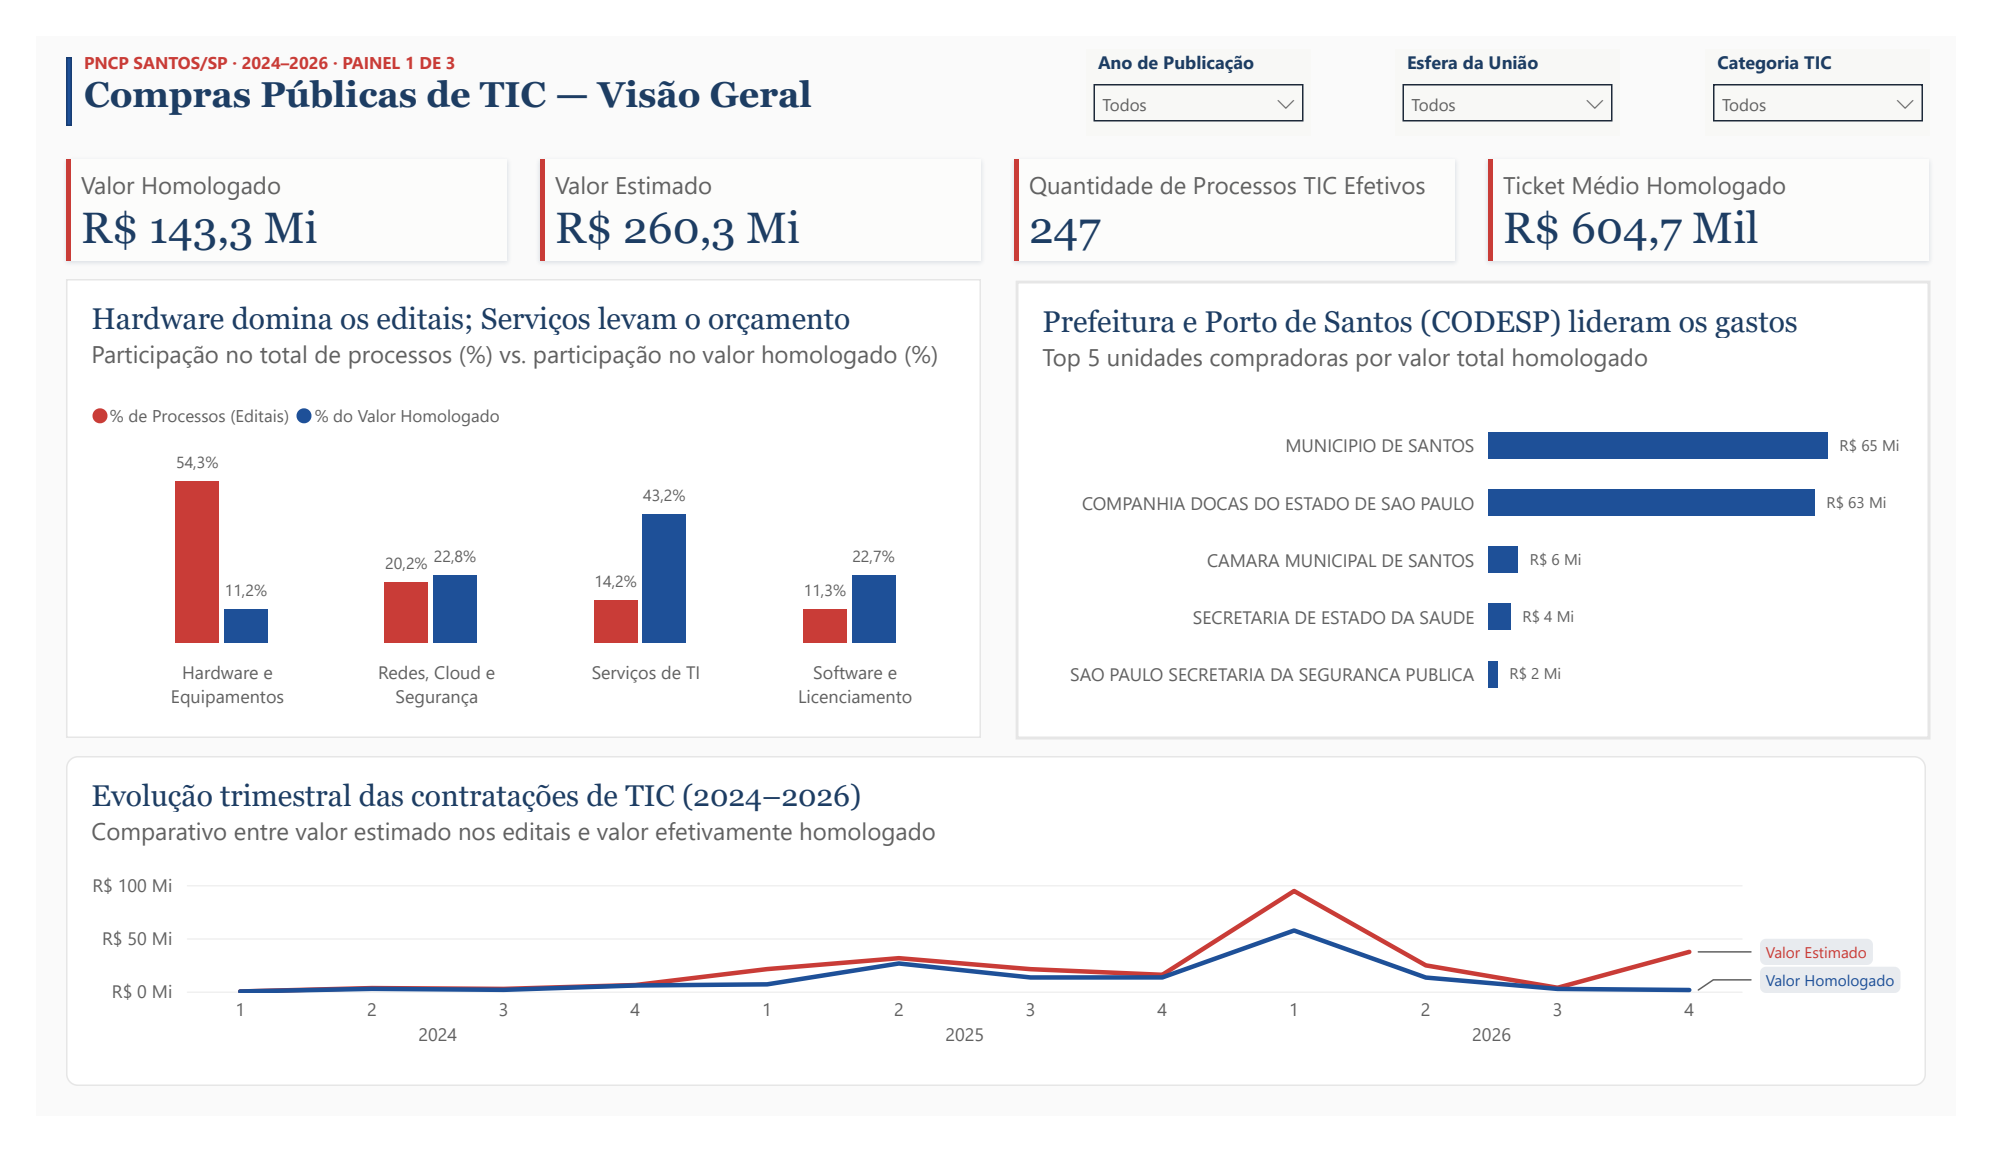

The page's visual inventory and layout, read from the dashboard file:
{"tool":"powerbi","page":{"name":"Eixo 0: Visão Geral","canvas":[1280,720],"ordinal":0},"visuals":[{"type":"slicer","fields":{"Values":["fct_contratacoes.ano_publicacao"]},"box":[700.3,9,150,58],"z":0},{"type":"slicer","fields":{"Values":["fct_contratacoes.categoria_tic"]},"box":[1112.5,9,150,58],"z":1000},{"type":"slicer","fields":{"Values":["fct_contratacoes.orgao_esfera_nome"]},"box":[906.4,9,150,58],"z":2000},{"type":"cardVisual","title":"Valor Homologado","fields":{"Data":["_medidas.Valor Homologado"]},"box":[20,82,294,68],"z":3000},{"type":"cardVisual","title":"Valor Estimado","fields":{"Data":["_medidas.Valor Estimado"]},"box":[336,82,294,68],"z":4000},{"type":"cardVisual","title":"Quantidade de Processos","fields":{"Data":["_medidas.Qtd Processos"]},"box":[652,82,294,68],"z":5000},{"type":"cardVisual","title":"Ticket Médio Homologado","fields":{"Data":["_medidas.Ticket Medio Homologado"]},"box":[968,82,294,68],"z":6000},{"type":"clusteredColumnChart","title":"Hardware domina os editais; Serviços levam o orçamento","fields":{"Category":["fct_contratacoes.categoria_tic"],"Y":["_medidas.% Share Processos","_medidas.% Share Valor Homologado"]},"box":[20,162.1,610,306],"z":7000},{"type":"barChart","title":"Prefeitura e Porto de Santos (CODESP) lideram os gastos","fields":{"Category":["fct_contratacoes.orgao_razao_social"],"Y":["_medidas.Valor Homologado"]},"box":[652.7,162.7,610,306],"z":8000},{"type":"lineChart","title":"Evolução trimestral das contratações de TIC (2024–2026)","fields":{"Category":["fct_contratacoes.ano_publicacao","fct_contratacoes.trimestre_publicacao"],"Y":["_medidas.Valor Estimado","_medidas.Valor Homologado"]},"box":[20,480,1240,220],"z":9000}]}

Visuals, with their boxes in screenshot pixels (x1, y1, x2, y2), scaled from the page's 1280x720 canvas onto the 1992x1152 screenshot:
slicer - fct_contratacoes.ano_publicacao: detection(1090, 14, 1323, 107)
slicer - fct_contratacoes.categoria_tic: detection(1731, 14, 1965, 107)
slicer - fct_contratacoes.orgao_esfera_nome: detection(1411, 14, 1644, 107)
"Valor Homologado" cardVisual: detection(31, 131, 489, 240)
"Valor Estimado" cardVisual: detection(523, 131, 980, 240)
"Quantidade de Processos" cardVisual: detection(1015, 131, 1472, 240)
"Ticket Médio Homologado" cardVisual: detection(1506, 131, 1964, 240)
"Hardware domina os editais; Serviços levam o orçamento" clusteredColumnChart: detection(31, 259, 980, 749)
"Prefeitura e Porto de Santos (CODESP) lideram os gastos" barChart: detection(1016, 260, 1965, 750)
"Evolução trimestral das contratações de TIC (2024–2026)" lineChart: detection(31, 768, 1961, 1120)
